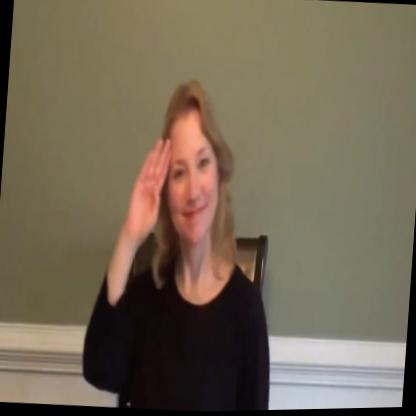Hello: (84, 40, 254, 319)
